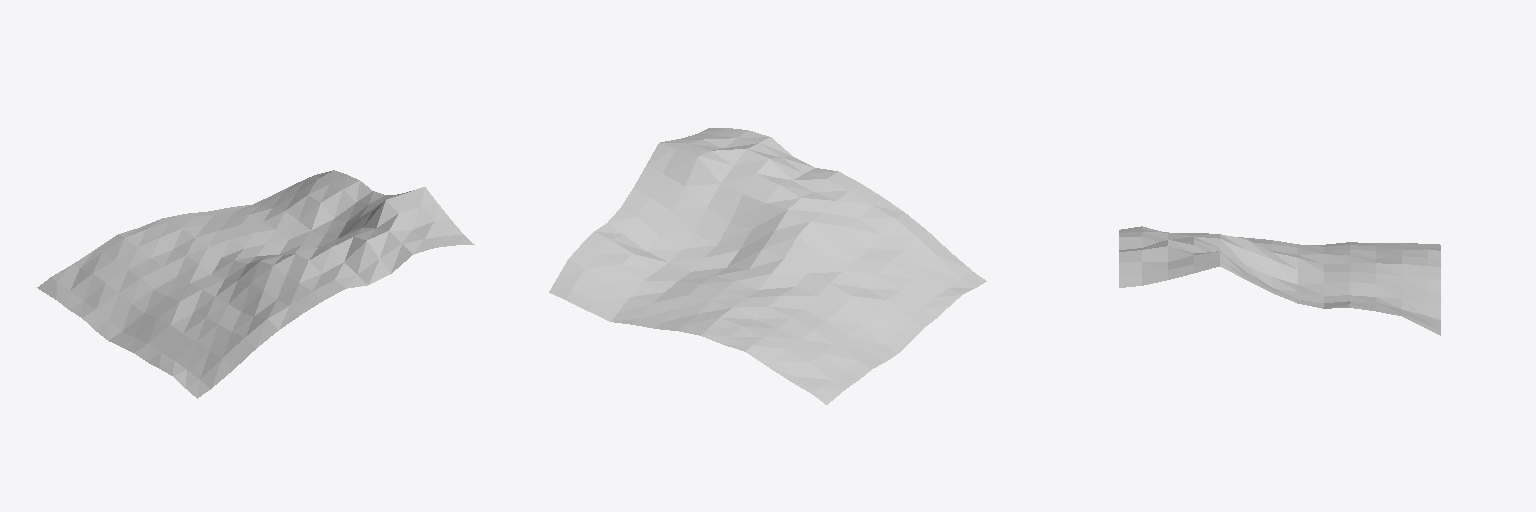
Rendered from Landscape.014.obj.
3 renders of one model, left to right at view 1: azimuth 30°, elevation 25°; view 2: azimuth 150°, elevation 25°; view 3: azimuth 270°, elevation 25°, orthographic.
Visible parts, largest first — view 1: Landscape.014; view 2: Landscape.014; view 3: Landscape.014.
Boxes of the visible parts, <box> form: Landscape.014: <box>37,170,474,398</box>; Landscape.014: <box>549,128,986,404</box>; Landscape.014: <box>1119,226,1440,335</box>.
Bounding box in the file's own units: 32 × 12.64 × 32.